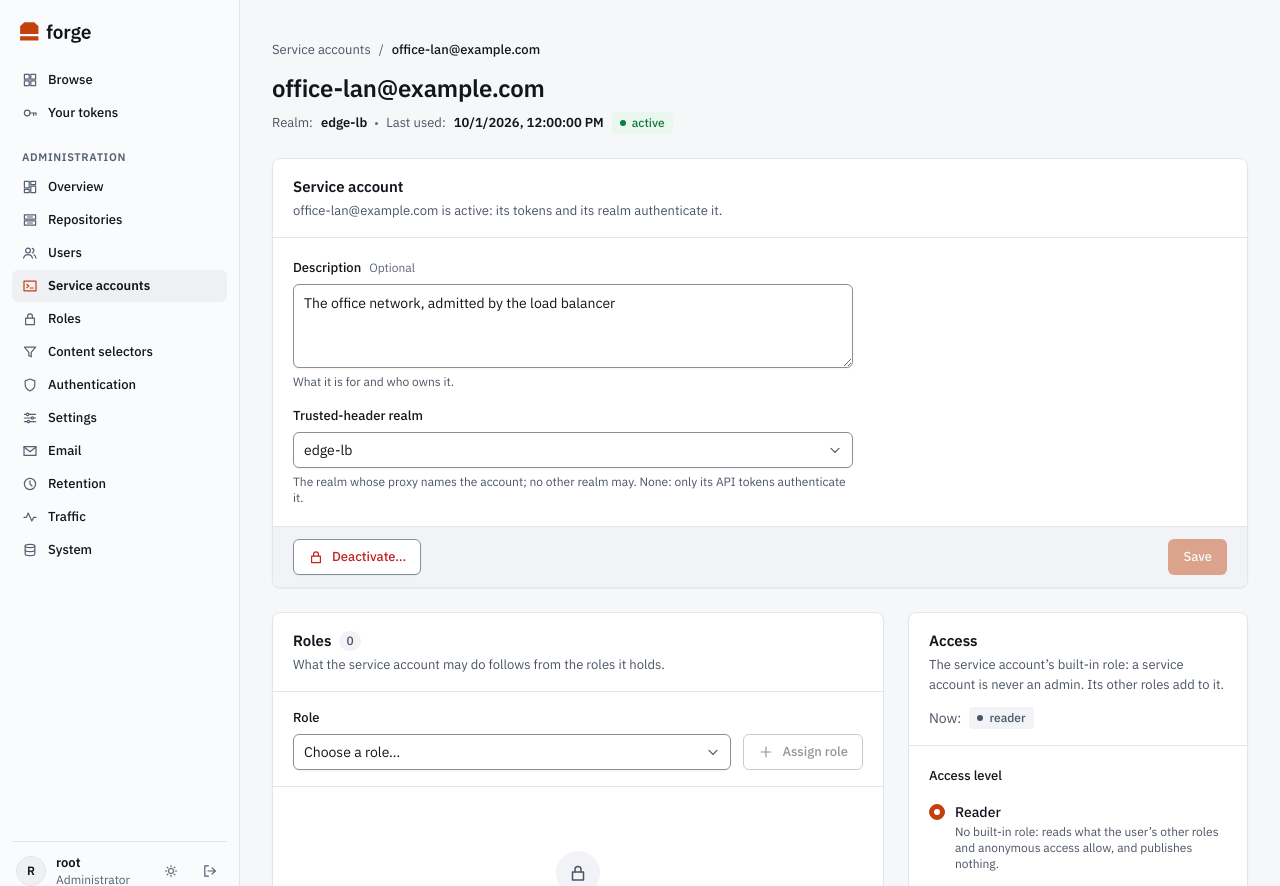
Test case: admin service accounts › saves a description alone once its realm is gone, without re-sending the realm
Replace the text in the text box labelled "Description Optional" with "The office network" at (573, 326), box [293,284,853,368]
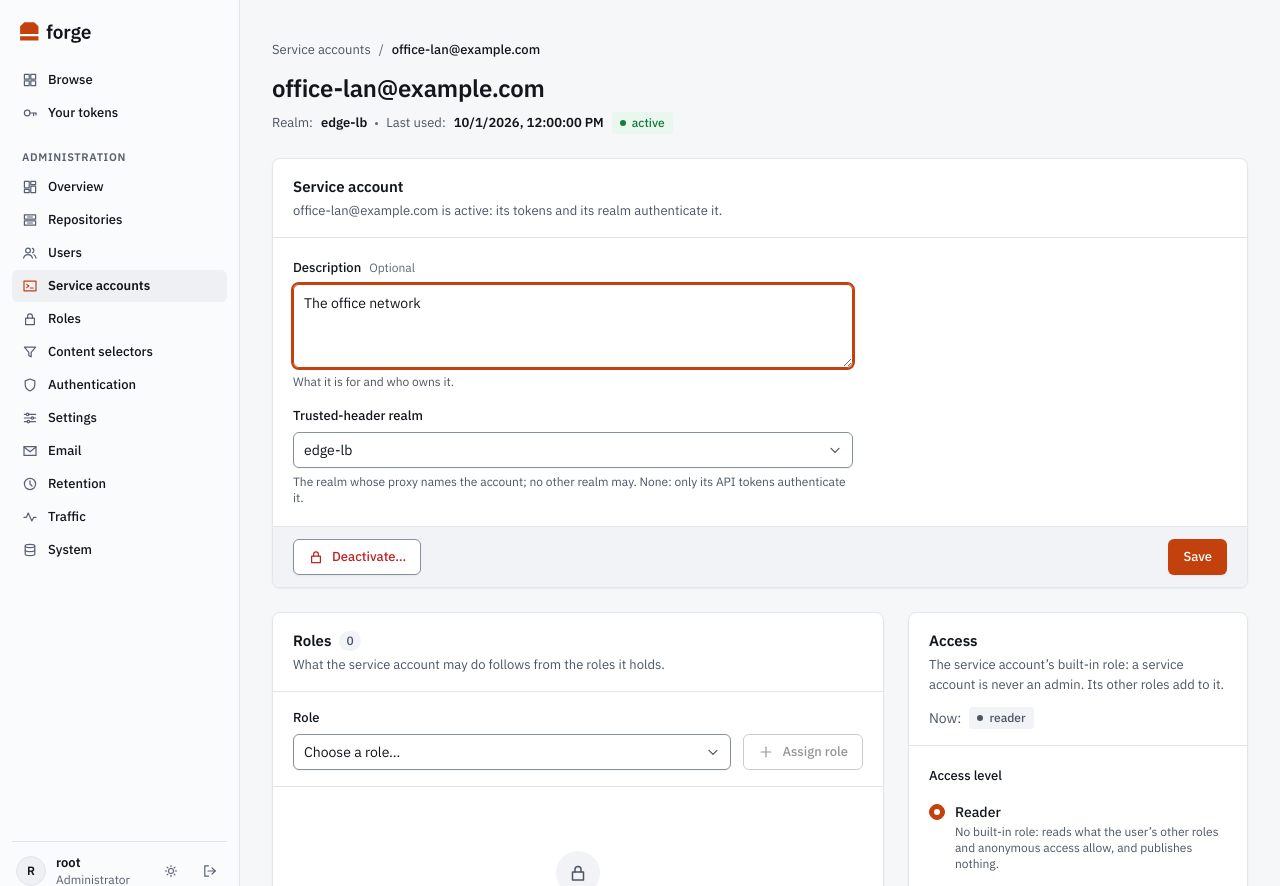
Click the button "Save" at (1198, 557), box [1168,539,1227,575]
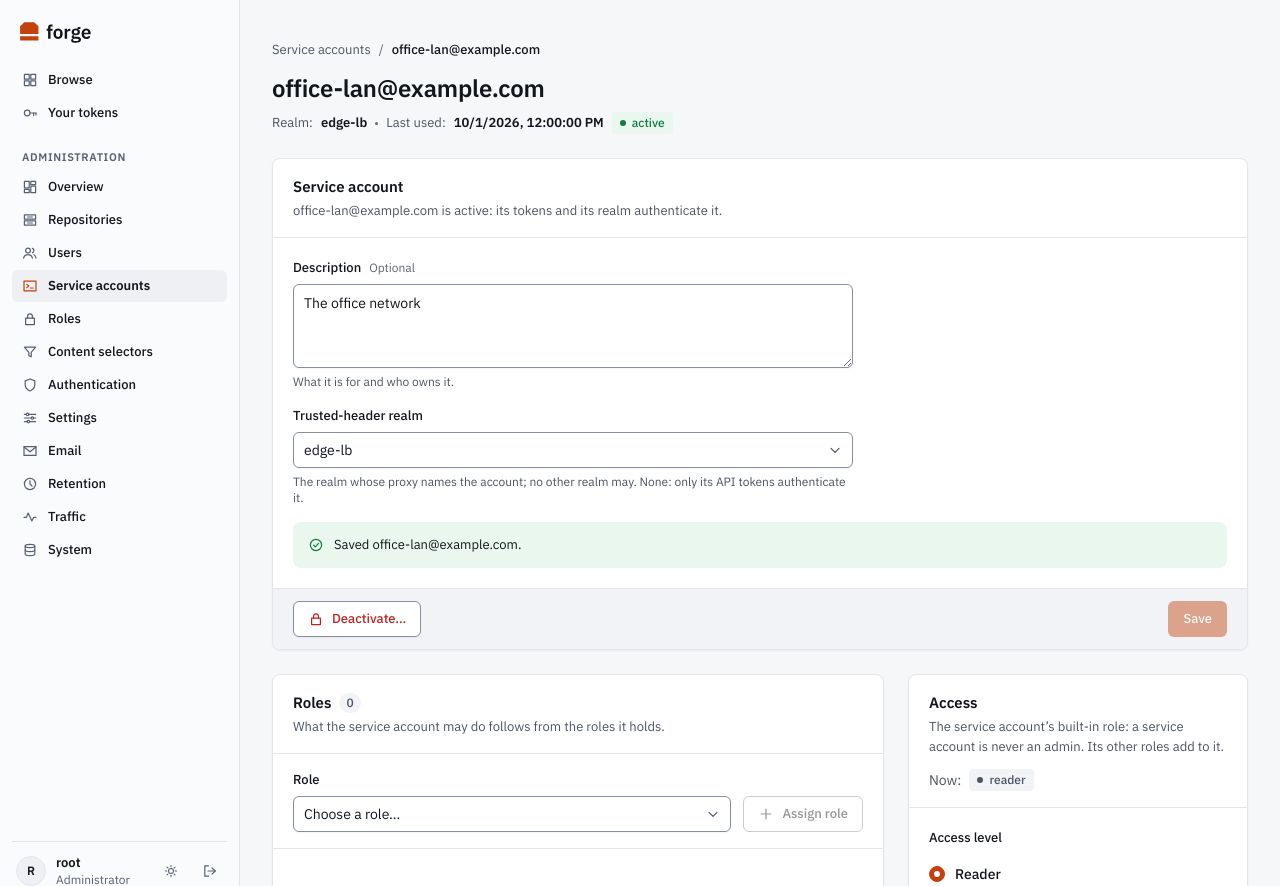
expect the text "Saved office-lan@example.com." is shown: met, box [334,536,521,553]
